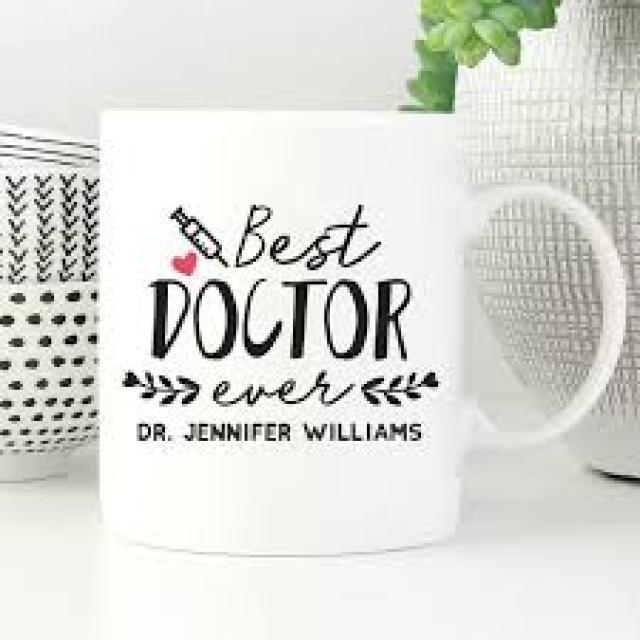taza: (83, 90, 630, 572)
